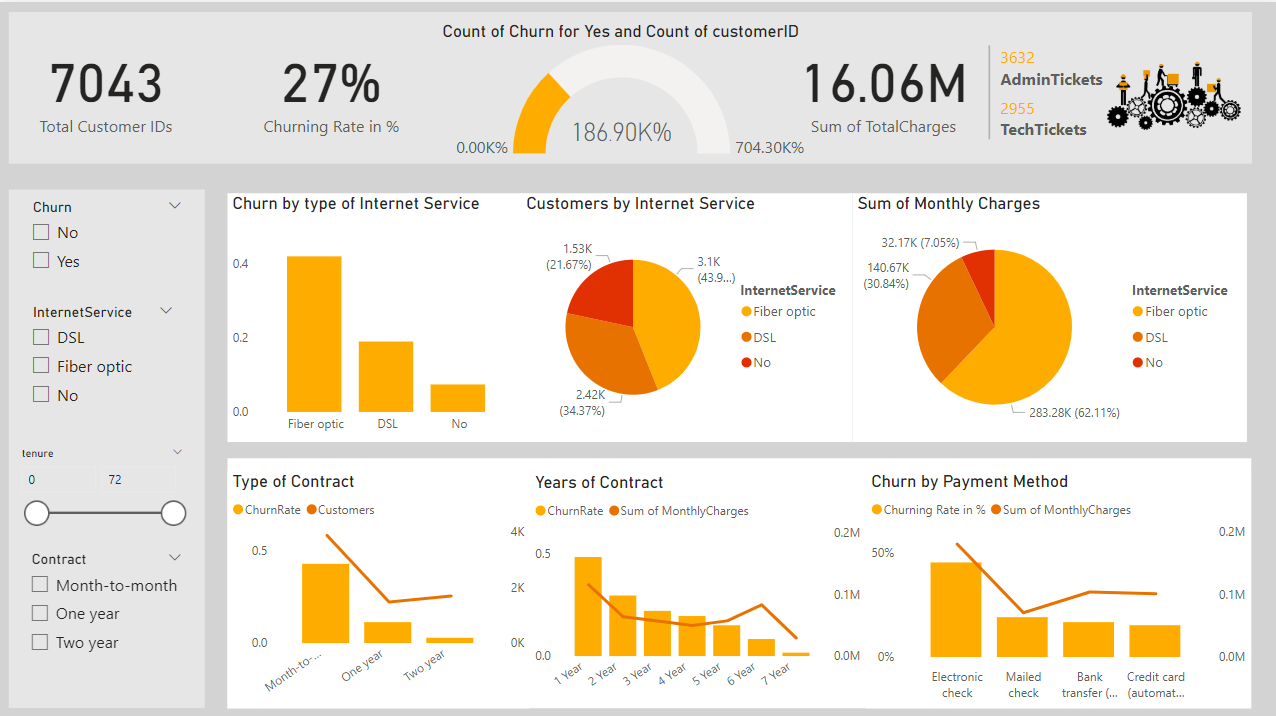

The page's visual inventory and layout, read from the dashboard file:
{"tool":"powerbi","page":{"name":"Customer Risk Analysis","canvas":[1280,720],"ordinal":2},"visuals":[{"type":"shape","box":[8.3,10,1243.3,151.7],"z":0},{"type":"shape","box":[227.5,456.2,1023.8,250],"z":1000},{"type":"shape","box":[8.8,187.5,196.2,518.8],"z":2000},{"type":"slicer","fields":{"Values":["01 Churn-Dataset.Churn"]},"box":[20,191.2,173.8,95],"z":3000},{"type":"slicer","fields":{"Values":["01 Churn-Dataset.InternetService"]},"box":[20,296.2,165,120],"z":4000},{"type":"slicer","fields":{"Values":["01 Churn-Dataset.tenure"]},"box":[8.8,440,186.2,95],"z":5000},{"type":"slicer","fields":{"Values":["01 Churn-Dataset.Contract"]},"box":[18.8,543.8,175,125],"z":6000},{"type":"card","fields":{"Values":["01 Churn-Dataset.Total Customer IDs"]},"box":[0,14.3,212.2,142.9],"z":7000,"group":"g1"},{"type":"gauge","fields":{"Y":["01 Churn-Dataset.Count of Churn for Yes"],"MaxValue":["CountNonNull(01 Churn-Dataset.customerID)"]},"box":[437.1,18.6,385.7,142.9],"z":7000},{"type":"card","fields":{"Values":["01 Churn-Dataset.ChurningRate"]},"box":[226.6,14.3,210.4,142.9],"z":8000,"group":"g1"},{"type":"multiRowCard","fields":{"Values":["Sum(01 Churn-Dataset.numAdminTickets)","Sum(01 Churn-Dataset.numTechTickets)"]},"box":[984.3,38.6,147.1,148.6],"z":8000},{"type":"clusteredColumnChart","title":"Churn by type of Internet Service","fields":{"Category":["01 Churn-Dataset.InternetService"],"Y":["01 Churn-Dataset.ChurnRate"]},"box":[227.8,191.1,294.4,248.9],"z":9000},{"type":"card","fields":{"Values":["Sum(01 Churn-Dataset.TotalCharges)"]},"box":[777.8,14.3,212.2,142.9],"z":10000,"group":"g1"},{"type":"lineClusteredColumnComboChart","title":"Type of  Contract","fields":{"Category":["01 Churn-Dataset.Contract"],"Y":["01 Churn-Dataset.ChurnRate"],"Y2":["CountNonNull(01 Churn-Dataset.customerID)"]},"box":[227.5,468.8,302.5,237.5],"z":10000},{"type":"lineClusteredColumnComboChart","title":"Years of Contract","fields":{"Category":["01 Churn-Dataset.LOYALTY"],"Y":["01 Churn-Dataset.ChurnRate"],"Y2":["Sum(01 Churn-Dataset.MonthlyCharges)"]},"box":[530,470,336.2,236.2],"z":11000},{"type":"lineClusteredColumnComboChart","title":"Churn by Payment Method","fields":{"Category":["01 Churn-Dataset.PaymentMethod"],"Y":["01 Churn-Dataset.Churning Rate in %"],"Y2":["Sum(01 Churn-Dataset.MonthlyCharges)"]},"box":[866.2,468.8,385,237.5],"z":12000},{"type":"pieChart","title":" Customers by Internet Service","fields":{"Category":["01 Churn-Dataset.InternetService"],"Y":["CountNonNull(01 Churn-Dataset.customerID)"]},"box":[521.8,190.9,330.9,249.1],"z":13000},{"type":"pieChart","title":"Sum of Monthly Charges ","fields":{"Category":["01 Churn-Dataset.InternetService"],"Y":["Sum(01 Churn-Dataset.MonthlyCharges)"]},"box":[852.7,190.9,394.5,249.1],"z":14000},{"type":"group","id":"g1","title":"Group 1","box":[0,14.3,990,142.9],"z":15000},{"type":"image","box":[1100,0,148.6,185.7],"z":16000}]}

Visuals, with their boxes in screenshot pixels (x1, y1, x2, y2), scaled from the page's 1280x720 canvas onto the 1276x716 screenshot:
shape: box(8, 10, 1248, 161)
shape: box(227, 454, 1247, 702)
shape: box(9, 186, 204, 702)
slicer - 01 Churn-Dataset.Churn: box(20, 190, 193, 285)
slicer - 01 Churn-Dataset.InternetService: box(20, 295, 184, 414)
slicer - 01 Churn-Dataset.tenure: box(9, 438, 194, 532)
slicer - 01 Churn-Dataset.Contract: box(19, 541, 193, 665)
card - 01 Churn-Dataset.Total Customer IDs: box(0, 14, 212, 156)
gauge - 01 Churn-Dataset.Count of Churn for Yes x CountNonNull(01 Churn-Dataset.customerID): box(436, 18, 820, 161)
card - 01 Churn-Dataset.ChurningRate: box(226, 14, 436, 156)
multiRowCard - Sum(01 Churn-Dataset.numAdminTickets) x Sum(01 Churn-Dataset.numTechTickets): box(981, 38, 1128, 186)
"Churn by type of Internet Service" clusteredColumnChart: box(227, 190, 521, 438)
card - Sum(01 Churn-Dataset.TotalCharges): box(775, 14, 987, 156)
"Type of  Contract" lineClusteredColumnComboChart: box(227, 466, 528, 702)
"Years of Contract" lineClusteredColumnComboChart: box(528, 467, 863, 702)
"Churn by Payment Method" lineClusteredColumnComboChart: box(863, 466, 1247, 702)
" Customers by Internet Service" pieChart: box(520, 190, 850, 438)
"Sum of Monthly Charges " pieChart: box(850, 190, 1243, 438)
"Group 1" group: box(0, 14, 987, 156)
image: box(1097, 0, 1245, 185)
